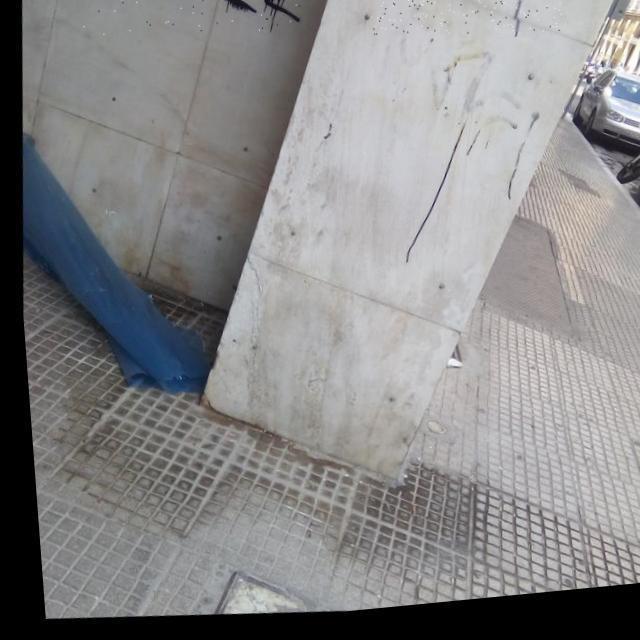-: (79, 0, 302, 51), (363, 0, 564, 56)
